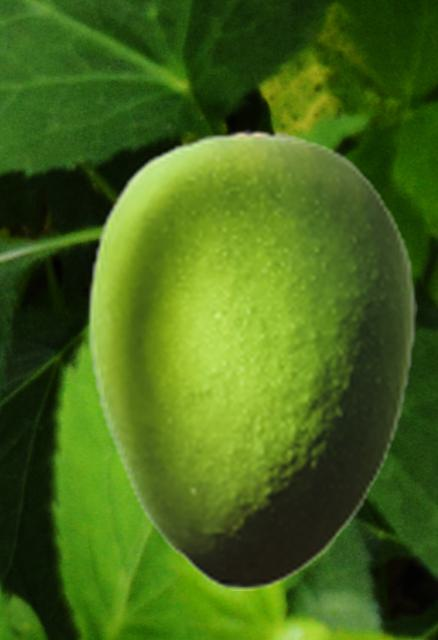green_mango: (86, 129, 416, 589)
